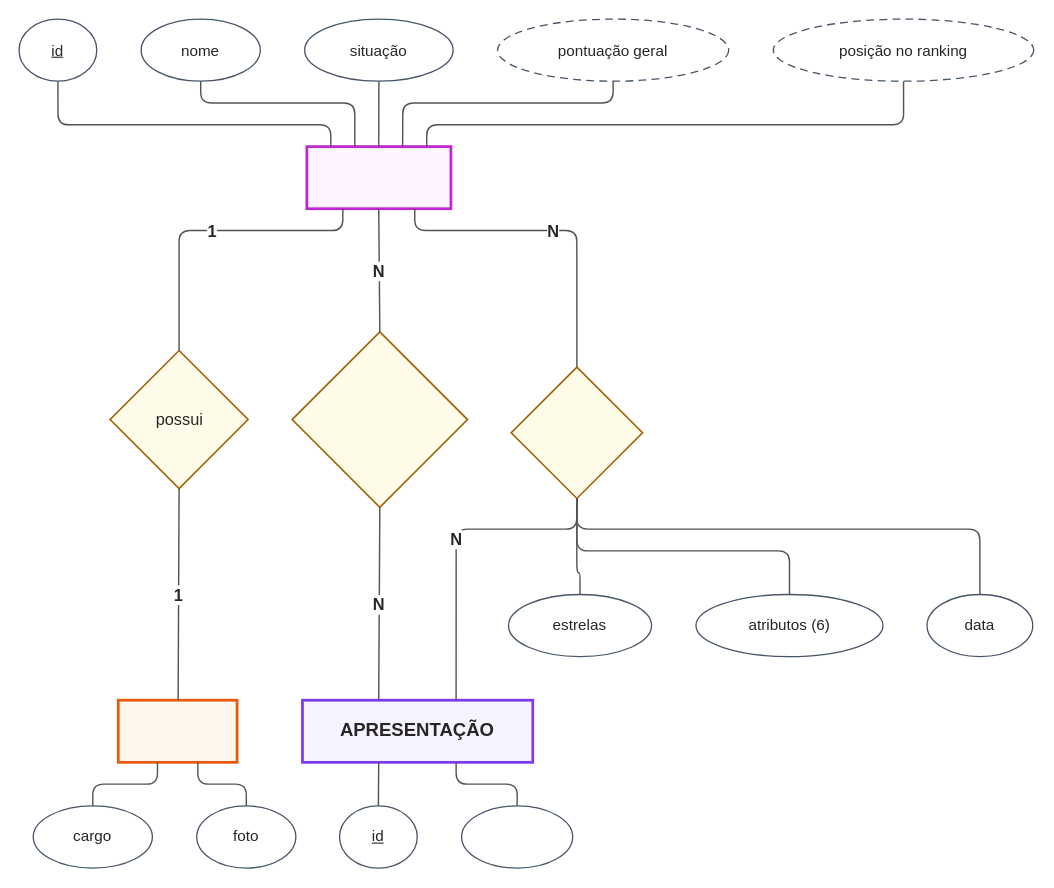
Image size: 1054x888. Some labels were removed from this diagram. The shapes that lost their labels are listed below. From the top down, each one's centre as x and y in pixels, then its label:
At (378,177): "USUÁRIO".
At (379,419): "apresenta".
At (576,432): "avalia".
At (177,730): "PERFIL".
At (516,836): "título".
